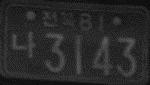1: (73, 34, 84, 77), (96, 13, 106, 35)
3: (116, 35, 138, 78), (44, 32, 65, 74)
4: (91, 37, 114, 78)
8: (78, 12, 92, 32)
나: (10, 29, 36, 59)
전북_O: (40, 9, 77, 30)
